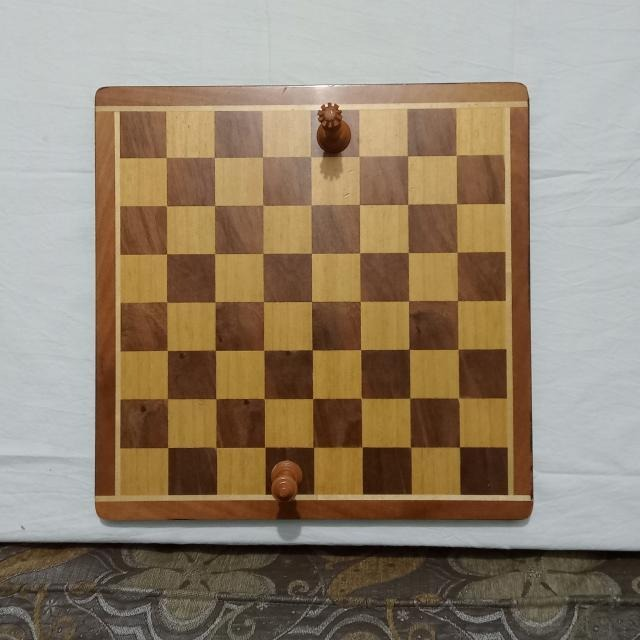white-king: (269, 459, 303, 503)
white-queen: (314, 100, 353, 156)
